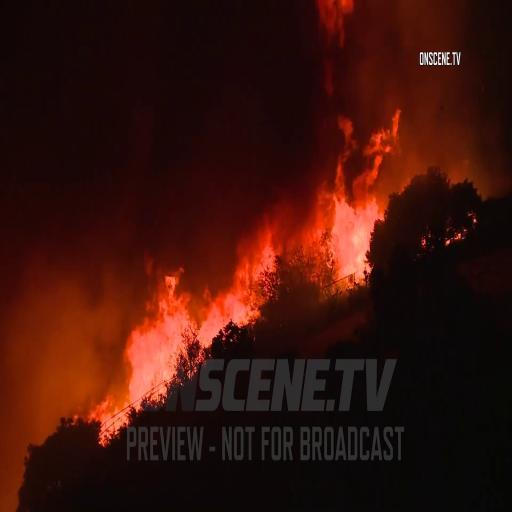fire: (315, 139, 374, 272), (118, 274, 185, 371)
